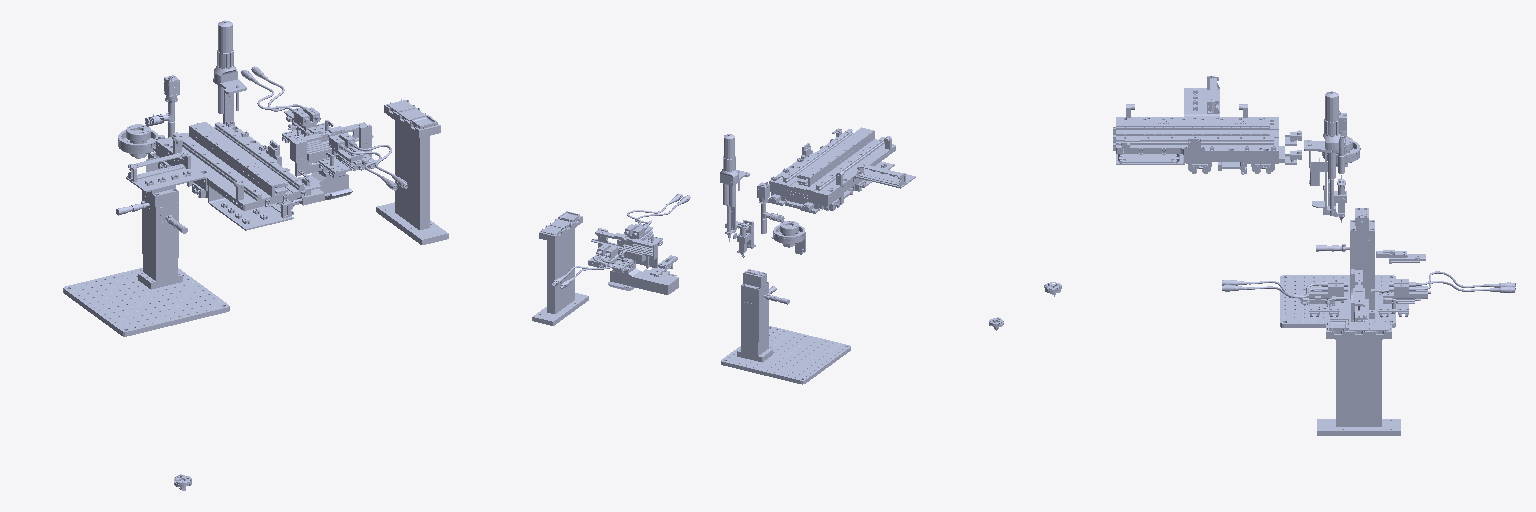
--- Facts derived from the render (not from the file) ---
Views: 3 orthographic renders of the robot side by side, from view 1: azimuth 30°, elevation 25°; view 2: azimuth 150°, elevation 25°; view 3: azimuth 270°, elevation 25°.
Model pm_robot with 29 links and 28 joints (5 revolute, 11 prismatic, 12 fixed), rooted at world, posed all joints at 0 but 1 set to mid-range because 0 is outside their limits (UV_Module_Left_Joint = 0.045).
Visible links, largest first — view 1: X_Axis, Gonio_Base_Rigth, Test_Station, EQ, Gonio_Right_Mount_Lower, UV_Module_Right, UV_Module_Left, Gonio_Left_Stage_1_Upper, Camera_Module_Z_Axis, UV_Cart_Right, Gonio_Right_Mount_Upper, Gonio_Right_Stage_1_Upper (+2 smaller); view 2: X_Axis, Gonio_Base_Rigth, Test_Station, EQ, Gonio_Left_Stage_1_Upper, Gonio_Right_Mount_Upper, UV_Module_Left, UV_Module_Right, Camera_Module_Z_Axis; view 3: X_Axis, Test_Station, Gonio_Base_Rigth, EQ, UV_Module_Left, UV_Module_Right, UV_Cart_Left, UV_Cart_Right, Nest.
Boxes of the visible links, box(x1,y1,x2,y2) form: X_Axis: box(126, 121, 310, 230); Gonio_Base_Rigth: box(63, 215, 229, 336); Test_Station: box(376, 99, 448, 244); EQ: box(213, 20, 246, 123); Gonio_Right_Mount_Lower: box(290, 124, 371, 177); UV_Module_Right: box(329, 133, 407, 190); UV_Module_Left: box(241, 66, 320, 130); Gonio_Left_Stage_1_Upper: box(277, 172, 352, 205); Camera_Module_Z_Axis: box(145, 75, 179, 137); UV_Cart_Right: box(319, 151, 375, 177); Gonio_Right_Mount_Upper: box(293, 122, 373, 153); Gonio_Right_Stage_1_Upper: box(116, 196, 178, 218); X_Axis: box(768, 127, 915, 213); Gonio_Base_Rigth: box(721, 304, 850, 384); Test_Station: box(532, 211, 588, 325); EQ: box(720, 134, 749, 241); Gonio_Left_Stage_1_Upper: box(608, 268, 678, 294); Gonio_Right_Mount_Upper: box(591, 230, 654, 268); UV_Module_Left: box(552, 244, 617, 288); UV_Module_Right: box(624, 194, 690, 239); Camera_Module_Z_Axis: box(757, 182, 784, 233); X_Axis: box(1113, 76, 1301, 174); Test_Station: box(1317, 320, 1400, 435); Gonio_Base_Rigth: box(1280, 257, 1395, 327); EQ: box(1304, 91, 1340, 215); UV_Module_Left: box(1389, 271, 1515, 300); UV_Module_Right: box(1222, 279, 1347, 302); UV_Cart_Left: box(1371, 288, 1430, 316); UV_Cart_Right: box(1288, 293, 1346, 316); Nest: box(1350, 208, 1374, 235).
Bounding box of the posed robot: 1.16 × 1.22 × 0.8362 m (x, y, z).
Meshes: 28 distinct files referenced, 24 mesh visuals loaded (24 binary STL); not drawn: 4 (reference not matched to a file when rendering).

The robot description file, URDF, robot "pm_robot":
<?xml version="1.0" encoding="utf-8"?>
<!-- This URDF was automatically created by SolidWorks to URDF Exporter! Originally created by Stephen Brawner ([email redacted]) 
     Commit Version: 1.6.0-1-g15f4949  Build Version: 1.6.7594.29634
     For more information, please see http://wiki.ros.org/sw_urdf_exporter -->
<robot
  name="pm_robot">

  <link name="world">
  </link>
  
  <joint name="world_joint" type="fixed">
    <parent link="world"/>
    <child link="base_link"/>
    <origin
      xyz="0 0 0"
      rpy="0 0 0" />
  </joint>

<gazebo reference="Nest">
    <material>Gazebo/Black</material>
</gazebo>

<gazebo reference="Component">
    <material>Gazebo/White</material>
</gazebo>

  <link
    name="base_link">
    <inertial>
      <origin
        xyz="0.625821801363778 0.570133136306886 0.131114542394431"
        rpy="0 0 0" />
      <mass
        value="185.737269065976" />
      <inertia
        ixx="17.6891686329467"
        ixy="-0.0005539539064769"
        ixz="2.11795920498451E-05"
        iyy="19.5856182457273"
        iyz="0.00180194516552895"
        izz="36.6182068946149" />
    </inertial>
    <visual>
      <origin
        xyz="0 0 0"
        rpy="0 0 0" />
      <geometry>
        <mesh
          filename="package://pm_robot_description/meshes/base_link.STL" />
      </geometry>
      <material
        name="">
        <color
          rgba="0.792156862745098 0.819607843137255 0.933333333333333 1" />
      </material>
    </visual>
    <collision>
      <origin
        xyz="0 0 0"
        rpy="0 0 0" />
      <geometry>
        <mesh
          filename="package://pm_robot_description/meshes/base_link.STL" />
      </geometry>
    </collision>
  </link>
  <link
    name="X_Axis">
    <inertial>
      <origin
        xyz="0.16919895741484 -0.139025494621401 0.0270399805740182"
        rpy="0 0 0" />
      <mass
        value="3.40836170630821" />
      <inertia
        ixx="0.0248404376541355"
        ixy="-0.000748520694827292"
        ixz="6.13257340524014E-06"
        iyy="0.0088330828502041"
        iyz="-2.4288100595453E-05"
        izz="0.0333342630400324" />
    </inertial>
    <visual>
      <origin
        xyz="0 0 0"
        rpy="0 0 0" />
      <geometry>
        <mesh
          filename="package://pm_robot_description/meshes/X_Axis.STL" />
      </geometry>
      <material
        name="">
        <color
          rgba="0.792156862745098 0.819607843137255 0.933333333333333 1" />
      </material>
    </visual>
    <collision>
      <origin
        xyz="0 0 0"
        rpy="0 0 0" />
      <geometry>
        <mesh
          filename="package://pm_robot_description/meshes/X_Axis.STL" />
      </geometry>
    </collision>
  </link>
  <joint
    name="X_Axis_Joint"
    type="prismatic">
    <origin
      xyz="0.19 0.5545 0.56"
      rpy="0 0 0" />
    <parent
      link="base_link" />
    <child
      link="X_Axis" />
    <axis
      xyz="-1 0 0" />
    <limit
      lower="-0.745"
      upper="0.055"
      effort="100"
      velocity="0.05" />
  </joint>
  <link
    name="Y_Axis">
    <inertial>
      <origin
        xyz="0.0644731605204091 0.335953761487189 0.0959734258135516"
        rpy="0 0 0" />
      <mass
        value="5.14878388645621" />
      <inertia
        ixx="0.0689971056038874"
        ixy="-5.48415730832886E-06"
        ixz="0.000161589759460467"
        iyy="0.0347519976611458"
        iyz="-0.00648361648669565"
        izz="0.0562521130143104" />
    </inertial>
    <visual>
      <origin
        xyz="0 0 0"
        rpy="0 0 0" />
      <geometry>
        <mesh
          filename="package://pm_robot_description/meshes/Y_Axis.STL" />
      </geometry>
      <material
        name="">
        <color
          rgba="0.792156862745098 0.819607843137255 0.933333333333333 1" />
      </material>
    </visual>
    <collision>
      <origin
        xyz="0 0 0"
        rpy="0 0 0" />
      <geometry>
        <mesh
          filename="package://pm_robot_description/meshes/Y_Axis.STL" />
      </geometry>
    </collision>
  </link>
  <joint
    name="Y_Axis_Joint"
    type="prismatic">
    <origin
      xyz="0.1115 -0.39197 0.0625"
      rpy="0 0 0" />
    <parent
      link="X_Axis" />
    <child
      link="Y_Axis" />
    <axis
      xyz="0 -1 0" />
    <limit
      lower="-0.425"
      upper="0.2505"
      effort="100"
      velocity="0.05" />
  </joint>
  <link
    name="Z_Axis">
    <inertial>
      <origin
        xyz="0.0549049098594834 0.0430017751887579 -0.271974089543362"
        rpy="0 0 0" />
      <mass
        value="2.90435657697672" />
      <inertia
        ixx="0.0172042502712429"
        ixy="-1.43162614116986E-05"
        ixz="0.000234498173213759"
        iyy="0.0221198084238349"
        iyz="9.06231760054573E-05"
        izz="0.00612331848936254" />
    </inertial>
    <visual>
      <origin
        xyz="0 0 0"
        rpy="0 0 0" />
      <geometry>
        <mesh
          filename="package://pm_robot_description/meshes/Z_Axis.STL" />
      </geometry>
      <material
        name="">
        <color
          rgba="0.792156862745098 0.819607843137255 0.933333333333333 1" />
      </material>
    </visual>
    <collision>
      <origin
        xyz="0 0 0"
        rpy="0 0 0" />
      <geometry>
        <mesh
          filename="package://pm_robot_description/meshes/Z_Axis.STL" />
      </geometry>
    </collision>
  </link>
  <!---Gravity off-->
  <gazebo reference="Z_Axis">
    <turnGravityOff>true</turnGravityOff>
  </gazebo>
  <joint
    name="Z_Axis_Joint"
    type="prismatic">
    <origin
      xyz="-0.000999999553101816 0.496199999543101 0.2825180193463"
      rpy="0 0 0" />
    <parent
      link="Y_Axis" />
    <child
      link="Z_Axis" />
    <axis
      xyz="0 0 -1" />
    <limit
      lower="-0.05262"
      upper="0.055"
      effort="100"
      velocity="0.05" />
  </joint>
  <link
    name="Gripper_Rot_Plate">
    <inertial>
      <origin
        xyz="2.0103346298761E-07 1.7706926014327E-07 -0.0164220765723002"
        rpy="0 0 0" />
      <mass
        value="0.11029725831735" />
      <inertia
        ixx="8.79764941917058E-05"
        ixy="-1.83626185977477E-10"
        ixz="-1.48320232213546E-10"
        iyy="8.79759415900838E-05"
        iyz="-1.27560286892208E-10"
        izz="0.000165659871028387" />
    </inertial>
    <visual>
      <origin
        xyz="0 0 0"
        rpy="0 0 0" />
      <geometry>
        <mesh
          filename="package://pm_robot_description/meshes/Gripper_Rot_Plate.STL" />
      </geometry>
      <material
        name="">
        <color
          rgba="0.792156862745098 0.819607843137255 0.933333333333333 1" />
      </material>
    </visual>
    <collision>
      <origin
        xyz="0 0 0"
        rpy="0 0 0" />
      <geometry>
        <mesh
          filename="package://pm_robot_description/meshes/Gripper_Rot_Plate.STL" />
      </geometry>
    </collision>
  </link>
  <!---Gravity off-->
  <gazebo reference="Gripper_Rot_Plate">
    <turnGravityOff>true</turnGravityOff>
  </gazebo>
  <joint
    name="Gripper_Rot_Plate_Joint"
    type="revolute">
    <origin
      xyz="0.00750000000002338 0.0900000062570287 -0.389499999999991"
      rpy="0 0 0" />
    <parent
      link="Z_Axis" />
    <child
      link="Gripper_Rot_Plate" />
    <axis
      xyz="0 0 1" />
    <limit
      lower="0"
      upper="628319"
      effort="100"
      velocity="0.05" />
  </joint>
  <link
    name="Gripper">
    <inertial>
      <origin
        xyz="0.000135108807628681 -1.05111383998813E-05 -0.0292448632131201"
        rpy="0 0 0" />
      <mass
        value="0.127647896986229" />
      <inertia
        ixx="2.5142711578718E-05"
        ixy="-1.59474432850153E-08"
        ixz="3.3525019883474E-09"
        iyy="2.54173373628528E-05"
        iyz="4.55516572819561E-10"
        izz="4.13581383274998E-05" />
    </inertial>
    <visual>
      <origin
        xyz="0 0 0"
        rpy="0 0 0" />
      <geometry>
        <mesh
          filename="package://pm_robot_description/meshes/Gripper.STL" />
      </geometry>
      <material
        name="">
        <color
          rgba="0.792156862745098 0.819607843137255 0.933333333333333 1" />
      </material>
    </visual>
    <collision>
      <origin
        xyz="0 0 0"
        rpy="0 0 0" />
      <geometry>
        <mesh
          filename="package://pm_robot_description/meshes/Gripper.STL" />
      </geometry>
    </collision>
  </link>
  <!---Gravity off-->
  <gazebo reference="Gripper">
    <turnGravityOff>true</turnGravityOff>
  </gazebo>
  <joint
    name="Gripper_Joint"
    type="fixed">
    <origin
      xyz="0 0 -0.0255000000000101"
      rpy="0 0 0" />
    <parent
      link="Gripper_Rot_Plate" />
    <child
      link="Gripper" />
    <axis
      xyz="0 0 0" />
  </joint>
  <link
    name="Glue_Cartridge_Flap">
    <inertial>
      <origin
        xyz="0.0700781843320127 0.0170691077164346 -0.0129807443134584"
        rpy="0 0 0" />
      <mass
        value="0.0179277924431146" />
      <inertia
        ixx="4.17419773394052E-06"
        ixy="1.29835566651964E-07"
        ixz="-6.29537316660378E-08"
        iyy="5.0332526265048E-06"
        iyz="-9.02306176061445E-09"
        izz="4.11888432036329E-06" />
    </inertial>
    <visual>
      <origin
        xyz="0 0 0"
        rpy="0 0 0" />
      <geometry>
        <mesh
          filename="package://pm_robot_description/meshes/Glue_Cartridge_Flap.STL" />
      </geometry>
      <material
        name="">
        <color
          rgba="0.792156862745098 0.819607843137255 0.933333333333333 1" />
      </material>
    </visual>
    <collision>
      <origin
        xyz="0 0 0"
        rpy="0 0 0" />
      <geometry>
        <mesh
          filename="package://pm_robot_description/meshes/Glue_Cartridge_Flap.STL" />
      </geometry>
    </collision>
  </link>
  <!---Gravity off-->
  <gazebo reference="Glue_Cartridge_Flap">
    <turnGravityOff>true</turnGravityOff>
  </gazebo>
  <joint
    name="Glue_Cartridge_Flap_Joint"
    type="prismatic">
    <origin
      xyz="0.0750000000000233 0.0545000062570286 -0.412499999999991"
      rpy="0 0 0" />
    <parent
      link="Z_Axis" />
    <child
      link="Glue_Cartridge_Flap" />
    <axis
      xyz="-1 0 0" />
    <limit
      lower="0"
      upper="0.02"
      effort="100"
      velocity="0.05" />
  </joint>
  <link
    name="Glue_Cartridge">
    <inertial>
      <origin
        xyz="0.00252184437967673 0.0162311247825426 -0.0902228052383323"
        rpy="0 0 0" />
      <mass
        value="0.0725671789065893" />
      <inertia
        ixx="3.42933852013293E-05"
        ixy="-1.91967791577504E-07"
        ixz="5.62664387056898E-08"
        iyy="3.4047535660396E-05"
        iyz="-5.6636413986979E-07"
        izz="1.14639175061085E-05" />
    </inertial>
    <visual>
      <origin
        xyz="0 0 0"
        rpy="0 0 0" />
      <geometry>
        <mesh
          filename="package://pm_robot_description/meshes/Glue_Cartridge.STL" />
      </geometry>
      <material
        name="">
        <color
          rgba="0.792156862745098 0.819607843137255 0.933333333333333 1" />
      </material>
    </visual>
    <collision>
      <origin
        xyz="0 0 0"
        rpy="0 0 0" />
      <geometry>
        <mesh
          filename="package://pm_robot_description/meshes/Glue_Cartridge.STL" />
      </geometry>
    </collision>
  </link>
  <!---Gravity off-->
  <gazebo reference="Glue_Cartridge">
    <turnGravityOff>true</turnGravityOff>
  </gazebo>
  <joint
    name="Glue_Cartridge_Joint"
    type="prismatic">
    <origin
      xyz="0.171500000000024 0.0582000062570286 -0.341999999999991"
      rpy="0 0 0" />
    <parent
      link="Z_Axis" />
    <child
      link="Glue_Cartridge" />
    <axis
      xyz="0 0 1" />
    <limit
      lower="0"
      upper="0.04"
      effort="100"
      velocity="0.05" />
  </joint>
  <link
    name="EQ">
    <inertial>
      <origin
        xyz="-0.000295411016381641 0.0248543962427798 0.0574291260378159"
        rpy="0 0 0" />
      <mass
        value="0.398291319329287" />
      <inertia
        ixx="0.00156701563987073"
        ixy="-4.41604324049231E-06"
        ixz="9.92168040657486E-08"
        iyy="0.00155258685914303"
        iyz="1.49787524994666E-06"
        izz="0.000122318061840883" />
    </inertial>
    <visual>
      <origin
        xyz="0 0 0"
        rpy="0 0 0" />
      <geometry>
        <mesh
          filename="package://pm_robot_description/meshes/EQ.STL" />
      </geometry>
      <material
        name="">
        <color
          rgba="0.792156862745098 0.819607843137255 0.933333333333333 1" />
      </material>
    </visual>
    <collision>
      <origin
        xyz="0 0 0"
        rpy="0 0 0" />
      <geometry>
        <mesh
          filename="package://pm_robot_description/meshes/EQ.STL" />
      </geometry>
    </collision>
  </link>
  <!---Gravity off-->
  <gazebo reference="EQ">
    <turnGravityOff>true</turnGravityOff>
  </gazebo>
  <joint
    name="EQ_Joint"
    type="prismatic">
    <origin
      xyz="0.236500000000024 0.0322575758254202 -0.310499999999992"
      rpy="0 0 0" />
    <parent
      link="Z_Axis" />
    <child
      link="EQ" />
    <axis
      xyz="0 0 1" />
    <limit
      lower="0"
      upper="0.02"
      effort="100"
      velocity="0.05" />
  </joint>
  <link
    name="Camera_Module_Z_Axis">
    <inertial>
      <origin
        xyz="0.0116313616057115 0.0214231207637281 -0.0632876276111702"
        rpy="0 0 0" />
      <mass
        value="0.0744906107551854" />
      <inertia
        ixx="3.47731720414153E-05"
        ixy="6.43752140750256E-10"
        ixz="3.28409092724849E-07"
        iyy="3.75323274030922E-05"
        iyz="1.11954348594254E-07"
        izz="9.810378338093E-06" />
    </inertial>
    <visual>
      <origin
        xyz="0 0 0"
        rpy="0 0 0" />
      <geometry>
        <mesh
          filename="package://pm_robot_description/meshes/Camera_Module_Z_Axis.STL" />
      </geometry>
      <material
        name="">
        <color
          rgba="0.792156862745098 0.819607843137255 0.933333333333333 1" />
      </material>
    </visual>
    <collision>
      <origin
        xyz="0 0 0"
        rpy="0 0 0" />
      <geometry>
        <mesh
          filename="package://pm_robot_description/meshes/Camera_Module_Z_Axis.STL" />
      </geometry>
    </collision>
  </link>
    <!---Gravity off-->
  <gazebo reference="Camera_Module_Z_Axis">
    <turnGravityOff>true</turnGravityOff>
  </gazebo>
  <joint
    name="Camera_Module_Z_Axis_Joint"
    type="fixed">
    <origin
      xyz="0.0795000000000243 0.068500020970708 -0.233999999999991"
      rpy="0 0 0" />
    <parent
      link="Z_Axis" />
    <child
      link="Camera_Module_Z_Axis" />
    <axis
      xyz="0 0 0" />
  </joint>

  <link
    name="Test_Station">
    <inertial>
      <origin
        xyz="0.0375 0.109867595364853 0.143148862667039"
        rpy="0 0 0" />
      <mass
        value="1.39099524679326" />
      <inertia
        ixx="0.00780193904512034"
        ixy="-2.61716248057058E-14"
        ixz="-3.61572424102462E-21"
        iyy="0.00547600691976027"
        iyz="-9.87499782880815E-10"
        izz="0.00281708795214925" />
    </inertial>
    <visual>
      <origin
        xyz="0 0 0"
        rpy="0 0 0" />
      <geometry>
        <mesh
          filename="package://pm_robot_description/meshes/Test_Station.STL" />
      </geometry>
      <material
        name="">
        <color
          rgba="0.792156862745098 0.819607843137255 0.933333333333333 1" />
      </material>
    </visual>
    <collision>
      <origin
        xyz="0 0 0"
        rpy="0 0 0" />
      <geometry>
        <mesh
          filename="package://pm_robot_description/meshes/Test_Station.STL" />
      </geometry>
    </collision>
  </link>
  <joint
    name="Test_Station_Joint"
    type="fixed">
    <origin
      xyz="1.0625 0.6845 0.1"
      rpy="0 0 0" />
    <parent
      link="base_link" />
    <child
      link="Test_Station" />
    <axis
      xyz="0 0 0" />
  </joint>
  <link
    name="Gonio_Base_Rigth">
    <inertial>
      <origin
        xyz="-0.443310661236087 0.0330000000000467 -0.10131041089702"
        rpy="0 0 0" />
      <mass
        value="0.735149712395274" />
      <inertia
        ixx="0.00216091772202082"
        ixy="1.66756120275789E-18"
        ixz="2.02637515337738E-06"
        iyy="0.00218184071743384"
        iyz="8.52621696064458E-20"
        izz="0.000537837036237896" />
    </inertial>
    <visual>
      <origin
        xyz="0 0 0"
        rpy="0 0 0" />
      <geometry>
        <mesh
          filename="package://pm_robot_description/meshes/Gonio_Base_Rigth.STL" />
      </geometry>
      <material
        name="">
        <color
          rgba="0.792156862745098 0.819607843137255 0.933333333333333 1" />
      </material>
    </visual>
    <collision>
      <origin
        xyz="0 0 0"
        rpy="0 0 0" />
      <geometry>
        <mesh
          filename="package://pm_robot_description/meshes/Gonio_Base_Rigth.STL" />
      </geometry>
    </collision>
  </link>
  <joint
    name="Gonio_base_Rigth_Joint"
    type="fixed">
    <origin
      xyz="0.843436798933783 0.769499999999991 0.297531903269611"
      rpy="0 0.00124847209373138 0" />
    <parent
      link="base_link" />
    <child
      link="Gonio_Base_Rigth" />
    <axis
      xyz="0 0 0" />
  </joint>
  <link
    name="Stage_1_Gonio_Right">
    <inertial>
      <origin
        xyz="0.0450000285629691 0.0154464744552945 0.180028793226625"
        rpy="0 0 0" />
      <mass
        value="0.0706349432835735" />
      <inertia
        ixx="3.36962706733939E-05"
        ixy="-7.72258833183303E-11"
        ixz="-1.91981813462905E-11"
        iyy="1.8004068123271E-05"
        iyz="-1.39266767162838E-07"
        izz="4.86217530226209E-05" />
    </inertial>
    <visual>
      <origin
        xyz="0 0 0"
        rpy="0 0 0" />
      <geometry>
        <mesh
          filename="package://pm_robot_description/meshes/Stage_1_Gonio_Right.STL" />
      </geometry>
      <material
        name="">
        <color
          rgba="0.792156862745098 0.819607843137255 0.933333333333333 1" />
      </material>
    </visual>
    <collision>
      <origin
        xyz="0 0 0"
        rpy="0 0 0" />
      <geometry>
        <mesh
          filename="package://pm_robot_description/meshes/Stage_1_Gonio_Right.STL" />
      </geometry>
    </collision>
  </link>
  <joint
    name="Stage_1_Gonio_Right_Joint"
    type="fixed">
    <origin
      xyz="-0.488205660861556 0.00050000000005054 -0.185441558777103"
      rpy="0 -0.00124847209373138 0" />
    <parent
      link="Gonio_Base_Rigth" />
    <child
      link="Stage_1_Gonio_Right" />
    <axis
      xyz="0 0 0" />
  </joint>
  <link
    name="Gonio_Right_Stage_1_Upper">
    <inertial>
      <origin
        xyz="0.0236093552066096 0.000777611453360041 -0.07883096150979"
        rpy="0 0 0" />
      <mass
        value="0.135485840705969" />
      <inertia
        ixx="4.16210427703093E-05"
        ixy="1.17487642350012E-09"
        ixz="-1.10761881698597E-07"
        iyy="6.29240886667246E-05"
        iyz="-3.38034194495186E-07"
        izz="9.71875209897851E-05" />
    </inertial>
    <visual>
      <origin
        xyz="0 0 0"
        rpy="0 0 0" />
      <geometry>
        <mesh
          filename="package://pm_robot_description/meshes/Gonio_Right_Stage_1_Upper.STL" />
      </geometry>
      <material
        name="">
        <color
          rgba="0.792156862745098 0.819607843137255 0.933333333333333 1" />
      </material>
    </visual>
    <collision>
      <origin
        xyz="0 0 0"
        rpy="0 0 0" />
      <geometry>
        <mesh
          filename="package://pm_robot_description/meshes/Gonio_Right_Stage_1_Upper.STL" />
      </geometry>
    </collision>
  </link>
  <joint
    name="Gonio_Right_Stage_1_Upper_joint"
    type="revolute">
    <origin
      xyz="0.0125000000000001 0.0325000000000001 0.281999999999999"
      rpy="0 0 0" />
    <parent
      link="Stage_1_Gonio_Right" />
    <child
      link="Gonio_Right_Stage_1_Upper" />
    <axis
      xyz="1 0 0" />
    <limit
      lower="-0.087266"
      upper="0.087266"
      effort="100"
      velocity="0.1" />
  </joint>
  <link
    name="Gonio_Right_Stage_2_Upper">
    <inertial>
      <origin
        xyz="-6.53148646279078E-10 -0.0325000008448236 -0.0578599602398864"
        rpy="0 0 0" />
      <mass
        value="0.0546397592722759" />
      <inertia
        ixx="2.38958843339078E-05"
        ixy="-1.0219765031195E-11"
        ixz="8.98389909344655E-13"
        iyy="1.83573881738552E-05"
        iyz="-3.15839883014258E-13"
        izz="3.93608769988889E-05" />
    </inertial>
    <visual>
      <origin
        xyz="0 0 0"
        rpy="0 0 0" />
      <geometry>
        <mesh
          filename="package://pm_robot_description/meshes/Gonio_Right_Stage_2_Upper.STL" />
      </geometry>
      <material
        name="">
        <color
          rgba="0.792156862745098 0.819607843137255 0.933333333333333 1" />
      </material>
    </visual>
    <collision>
      <origin
        xyz="0 0 0"
        rpy="0 0 0" />
      <geometry>
        <mesh
          filename="package://pm_robot_description/meshes/Gonio_Right_Stage_2_Upper.STL" />
      </geometry>
    </collision>
  </link>
  <joint
    name="Gonio_Right_Stage_2_Upper_Joint"
    type="revolute">
    <origin
      xyz="0.0325 0.0324984184257152 0.000320624121260105"
      rpy="0.00986554689296988 0.00243647716593582 2.40379358152113E-05" />
    <parent
      link="Gonio_Right_Stage_1_Upper" />
    <child
      link="Gonio_Right_Stage_2_Upper" />
    <axis
      xyz="0 -1 0" />
    <limit
      lower="-0.17453"
      upper="0.17453"
      effort="100"
      velocity="0.1" />
  </joint>
  <link
    name="Nest">
    <inertial>
      <origin
        xyz="0.032450872460221 0.0324929107955899 0.0216564841431486"
        rpy="0 0 0" />
      <mass
        value="0.133934804260549" />
      <inertia
        ixx="3.05433990945617E-05"
        ixy="-2.55507778379188E-10"
        ixz="-1.74866992826515E-08"
        iyy="4.8078789038224E-05"
        iyz="2.24246440407081E-09"
        izz="7.18729232272563E-05" />
    </inertial>
    <visual>
      <origin
        xyz="0 0 0"
        rpy="0 0 0" />
      <geometry>
        <mesh
          filename="package://pm_robot_description/meshes/Nest.STL" />
      </geometry>
      <material
        name="">
        <color
          rgba="0.792156862745098 0.819607843137255 0.933333333333333 1" />
      </material>
    </visual>
    <collision>
      <origin
        xyz="0 0 0"
        rpy="0 0 0" />
      <geometry>
        <mesh
          filename="package://pm_robot_description/meshes/Nest.STL" />
      </geometry>
    </collision>
  </link>
  <joint
    name="Nest_Joint"
    type="fixed">
    <origin
      xyz="-0.0324999999999999 -0.065 -0.0499999999999998"
      rpy="0 0 0" />
    <parent
      link="Gonio_Right_Stage_2_Upper" />
    <child
      link="Nest" />
    <axis
      xyz="0 0 0" />
  </joint>

  <link
    name="Component">
    <inertial>
      <origin
        xyz="0.0347500000000016 0.0327000000000096 0.0533550000000003"
        rpy="0 0 0" />
      <mass
        value="0.00104831550000006" />
      <inertia
        ixx="3.55496103757146E-08"
        ixy="1.89981381540481E-23"
        ixz="2.41620205931236E-23"
        iyy="8.15217394357171E-08"
        iyz="8.32325538551038E-24"
        izz="1.16560453252507E-07" />
    </inertial>
    <visual>
      <origin
        xyz="0 0 0"
        rpy="0 0 0" />
      <geometry>
        <mesh
          filename="package://robot_image_recognition/meshes/Component.STL" />
      </geometry>
      <material
        name="">
        <color
          rgba="0.792156862745098 0.819607843137255 0.933333333333333 2" />
      </material>
    </visual>
    <collision>
      <origin
        xyz="0 0 0"
        rpy="0 0 0" />
      <geometry>
        <mesh
          filename="package://robot_image_recognition/meshes/Component.STL" />
      </geometry>
    </collision>
  </link>
  <joint
    name="Component_Joint"
    type="fixed">
    <origin
      xyz="0 0 0"
      rpy="0 0 0" />
    <parent
      link="Nest" />
    <child
      link="Component" />
    <axis
      xyz="0 0 0" />
  </joint>

  <link
    name="Camera_System">
    <inertial>
      <origin
        xyz="0.0505028321627497 0.194735930802516 0.146786757354195"
        rpy="0 0 0" />
      <mass
        value="2.8858378823955" />
      <inertia
        ixx="0.0184869737843273"
        ixy="1.26297079346321E-05"
        ixz="3.42211569734802E-06"
        iyy="0.0045547035395917"
        iyz="-9.47292848293822E-05"
        izz="0.0194720270517019" />
    </inertial>
    <visual>
      <origin
        xyz="0 0 0"
        rpy="0 0 0" />
      <geometry>
        <mesh
          filename="package://pm_robot_description/meshes/Camera_System.STL" />
      </geometry>
      <material
        name="">
        <color
          rgba="0.792156862745098 0.819607843137255 0.933333333333333 1" />
      </material>
    </visual>
    <collision>
      <origin
        xyz="0 0 0"
        rpy="0 0 0" />
      <geometry>
        <mesh
          filename="package://pm_robot_description/meshes/Camera_System.STL" />
      </geometry>
    </collision>
  </link>
  <joint
    name="Camera_System_Joint"
    type="fixed">
    <origin
      xyz="0.6025 0.5075 0.1"
      rpy="0 0 0" />
    <parent
      link="base_link" />
    <child
      link="Camera_System" />
    <axis
      xyz="0 0 0" />
  </joint>
  <link
    name="Camera_Calibration">
    <inertial>
      <origin
        xyz="-2.23806848806962E-05 -0.0716494371536874 0.0040939089037404"
        rpy="0 0 0" />
      <mass
        value="0.0326858647412389" />
      <inertia
        ixx="2.04982158767326E-05"
        ixy="-1.61006130053567E-08"
        ixz="3.66083708051192E-11"
        iyy="2.64269352598525E-06"
        iyz="-4.64472618194221E-07"
        izz="2.23690961977999E-05" />
    </inertial>
    <visual>
      <origin
        xyz="0 0 0"
        rpy="0 0 0" />
      <geometry>
        <mesh
          filename="package://pm_robot_description/meshes/Camera_Calibration.STL" />
      </geometry>
      <material
        name="">
        <color
          rgba="0.792156862745098 0.819607843137255 0.933333333333333 1" />
      </material>
    </visual>
    <collision>
      <origin
        xyz="0 0 0"
        rpy="0 0 0" />
      <geometry>
        <mesh
          filename="package://pm_robot_description/meshes/Camera_Calibration.STL" />
      </geometry>
    </collision>
  </link>
  <joint
    name="Camera_Calibartion_Joint"
    type="prismatic">
    <origin
      xyz="0.065 0.4615 0.293"
      rpy="0 0 0" />
    <parent
      link="Camera_System" />
    <child
      link="Camera_Calibration" />
    <axis
      xyz="0 1 0" />
    <limit
      lower="-0.04"
      upper="0.0"
      effort="100"
      velocity="0.05" />
  </joint>
  <link
    name="Gonio_Base_Left">
    <inertial>
      <origin
        xyz="0.126941450046363 0.123518998015631 0.100678856473502"
        rpy="0 0 0" />
      <mass
        value="4.82459847582554" />
      <inertia
        ixx="0.011510655159352"
        ixy="-3.33565784736191E-05"
        ixz="1.45496624991337E-06"
        iyy="0.0188665286335149"
        iyz="2.60234058906314E-05"
        izz="0.0269849279870219" />
    </inertial>
    <visual>
      <origin
        xyz="0 0 0"
        rpy="0 0 0" />
      <geometry>
        <mesh
          filename="package://pm_robot_description/meshes/Gonio_Base_Left.STL" />
      </geometry>
      <material
        name="">
        <color
          rgba="0.792156862745098 0.819607843137255 0.933333333333333 1" />
      </material>
    </visual>
    <collision>
      <origin
        xyz="0 0 0"
        rpy="0 0 0" />
      <geometry>
        <mesh
          filename="package://pm_robot_description/meshes/Gonio_Base_Left.STL" />
      </geometry>
    </collision>
  </link>
  <joint
    name="Gonio_Base_Left_Joint"
    type="fixed">
    <origin
      xyz="0.752500000000035 0.684500000000037 0.100000000000003"
      rpy="0 0 0" />
    <parent
      link="base_link" />
    <child
      link="Gonio_Base_Left" />
    <axis
      xyz="0 0 0" />
  </joint>
  <link
    name="Gonio_Left_Stage_1_Upper">
    <inertial>
      <origin
        xyz="-0.0997824878967629 -0.00877925652714914 -0.0446785627316291"
        rpy="0 0 0" />
      <mass
        value="0.578798857286943" />
      <inertia
        ixx="0.000400478324367352"
        ixy="-0.000129239522587823"
        ixz="-7.82346515363914E-07"
        iyy="0.00157904583991977"
        iyz="5.25968237719547E-06"
        izz="0.00188005175520343" />
    </inertial>
    <visual>
      <origin
        xyz="0 0 0"
        rpy="0 0 0" />
      <geometry>
        <mesh
          filename="package://pm_robot_description/meshes/Gonio_Left_Stage_1_Upper.STL" />
      </geometry>
      <material
        name="">
        <color
          rgba="0.792156862745098 0.819607843137255 0.933333333333333 1" />
      </material>
    </visual>
    <collision>
      <origin
        xyz="0 0 0"
        rpy="0 0 0" />
      <geometry>
        <mesh
          filename="package://pm_robot_description/meshes/Gonio_Left_Stage_1_Upper.STL" />
      </geometry>
    </collision>
  </link>
  <joint
    name="Gonio_Left_Stage_1_Upper_Joint"
    type="revolute">
    <origin
      xyz="0.156499999999957 0.109999999999947 0.212499999999997"
      rpy="0 0 0" />
    <parent
      link="Gonio_Base_Left" />
    <child
      link="Gonio_Left_Stage_1_Upper" />
    <axis
      xyz="1 0 0" />
    <limit
      lower="-0.78539816339745"
      upper="0.78539816339745"
      effort="100"
      velocity="0.1" />
  </joint>
  <link
    name="Gonio_Left_Stage_2_Upper">
    <inertial>
      <origin
        xyz="-2.64677118601286E-05 -0.0250000000001234 -0.0212004406894863"
        rpy="0 0 0" />
      <mass
        value="0.0270626702476323" />
      <inertia
        ixx="6.08759497527378E-06"
        ixy="4.08430684508571E-14"
        ixz="4.39226594546324E-09"
        iyy="4.36785275766636E-06"
        iyz="-1.45383292013094E-16"
        izz="9.60639482996178E-06" />
    </inertial>
    <visual>
      <origin
        xyz="0 0 0"
        rpy="0 0 0" />
      <geometry>
        <mesh
          filename="package://pm_robot_description/meshes/Gonio_Left_Stage_2_Upper.STL" />
      </geometry>
      <material
        name="">
        <color
          rgba="0.792156862745098 0.819607843137255 0.933333333333333 1" />
      </material>
    </visual>
    <collision>
      <origin
        xyz="0 0 0"
        rpy="0 0 0" />
      <geometry>
        <mesh
          filename="package://pm_robot_description/meshes/Gonio_Left_Stage_2_Upper.STL" />
      </geometry>
    </collision>
  </link>
  <joint
    name="Gonio_Left_Stage_2_Upper_Joint"
    type="revolute">
    <origin
      xyz="-0.04 0.025 0"
      rpy="0 0 0" />
    <parent
      link="Gonio_Left_Stage_1_Upper" />
    <child
      link="Gonio_Left_Stage_2_Upper" />
    <axis
      xyz="0 -1 0" />
    <limit
      lower="-0.78539816339745"
      upper="0.78539816339745"
      effort="100"
      velocity="0.1" />
  </joint>
  <link
    name="Gonio_Right_Mount_Lower">
    <inertial>
      <origin
        xyz="0.0162416232097771 0.0179266836523483 0.0446054201820039"
        rpy="0 0 0" />
      <mass
        value="0.193859196114997" />
      <inertia
        ixx="6.6965131704231E-05"
        ixy="1.79270793281868E-07"
        ixz="9.94006466314354E-07"
        iyy="0.000515179692751325"
        iyz="1.1170065098574E-06"
        izz="0.000471145863687032" />
    </inertial>
    <visual>
      <origin
        xyz="0 0 0"
        rpy="0 0 0" />
      <geometry>
        <mesh
          filename="package://pm_robot_description/meshes/Gonio_Right_Mount_Lower.STL" />
      </geometry>
      <material
        name="">
        <color
          rgba="0.792156862745098 0.819607843137255 0.933333333333333 1" />
      </material>
    </visual>
    <collision>
      <origin
        xyz="0 0 0"
        rpy="0 0 0" />
      <geometry>
        <mesh
          filename="package://pm_robot_description/meshes/Gonio_Right_Mount_Lower.STL" />
      </geometry>
    </collision>
  </link>
<joint
    name="Gonio_Right_Mount_Lower_joint"
    type="fixed">
    <origin
      xyz="-0.0255632010662045 -0.05 -0.0149680967303876"
      rpy="0 0.00124847209372143 0" />
    <parent
      link="Gonio_Left_Stage_2_Upper" />
    <child
      link="Gonio_Right_Mount_Lower" />
    <axis
      xyz="0 0 0" />
  </joint>
  <link
    name="Gonio_Right_Mount_Upper">
    <inertial>
      <origin
        xyz="0.0138876332089552 0.0253601886212102 0.0864002192139908"
        rpy="0 0 0" />
      <mass
        value="0.0762325967846099" />
      <inertia
        ixx="1.37177472529419E-05"
        ixy="-1.46120092158232E-07"
        ixz="-6.17955623619177E-07"
        iyy="0.000262744933743385"
        iyz="8.65502713401381E-08"
        izz="0.000253259614960968" />
    </inertial>
    <visual>
      <origin
        xyz="0 0 0"
        rpy="0 0 0" />
      <geometry>
        <mesh
          filename="package://pm_robot_description/meshes/Gonio_Right_Mount_Upper.STL" />
      </geometry>
      <material
        name="">
        <color
          rgba="0.792156862745098 0.819607843137255 0.933333333333333 1" />
      </material>
    </visual>
    <collision>
      <origin
        xyz="0 0 0"
        rpy="0 0 0" />
      <geometry>
        <mesh
          filename="package://pm_robot_description/meshes/Gonio_Right_Mount_Upper.STL" />
      </geometry>
    </collision>
  </link>
  <joint
    name="Gonio_Right_Mount_Upper_Joint"
    type="fixed">
    <origin
      xyz="0.000544493897539577 0 0"
      rpy="0 -0.00124847209372143 0" />
    <parent
      link="Gonio_Right_Mount_Lower" />
    <child
      link="Gonio_Right_Mount_Upper" />
    <axis
      xyz="0 0 0" />
  </joint>
  <link
    name="UV_Cart_Left">
    <inertial>
      <origin
        xyz="0.109018366442935 -0.0253104400388921 0.0106949485904486"
        rpy="0 0 0" />
      <mass
        value="0.127959263611525" />
      <inertia
        ixx="5.21591452075977E-05"
        ixy="6.20383441116901E-08"
        ixz="-1.12100819961438E-07"
        iyy="6.05583187276661E-05"
        iyz="5.20562066916109E-08"
        izz="0.0001087127585747" />
    </inertial>
    <visual>
      <origin
        xyz="0 0 0"
        rpy="0 0 0" />
      <geometry>
        <mesh
          filename="package://pm_robot_description/meshes/UV_Cart_Left.STL" />
      </geometry>
      <material
        name="">
        <color
          rgba="0.792156862745098 0.819607843137255 0.933333333333333 1" />
      </material>
    </visual>
    <collision>
      <origin
        xyz="0 0 0"
        rpy="0 0 0" />
      <geometry>
        <mesh
          filename="package://pm_robot_description/meshes/UV_Cart_Left.STL" />
      </geometry>
    </collision>
  </link>
  <joint
    name="UV_Cart_Left_Joint"
    type="prismatic">
    <origin
      xyz="0.00649999999276624 0.231179999755626 0.252599999998818"
      rpy="0 0 0" />
    <parent
      link="Gonio_Base_Left" />
    <child
      link="UV_Cart_Left" />
    <axis
      xyz="-1 0 0" />
    <limit
      lower="-0.05"
      upper="0.095"
      effort="100"
      velocity="0.05" />
  </joint>
  <link
    name="UV_Module_Left">
    <inertial>
      <origin
        xyz="-0.00149625704690598 -0.0153546654161227 0.0150907885908851"
        rpy="0 0 0" />
      <mass
        value="0.119915229322348" />
      <inertia
        ixx="8.58688560134339E-05"
        ixy="-9.33412693374149E-06"
        ixz="-2.12947224034943E-07"
        iyy="1.98652847972192E-05"
        iyz="-9.66953808948319E-07"
        izz="0.000101234986556129" />
    </inertial>
    <visual>
      <origin
        xyz="0 0 0"
        rpy="0 0 0" />
      <geometry>
        <mesh
          filename="package://pm_robot_description/meshes/UV_Module_Left.STL" />
      </geometry>
      <material
        name="">
        <color
          rgba="0.792156862745098 0.819607843137255 0.933333333333333 1" />
      </material>
    </visual>
    <collision>
      <origin
        xyz="0 0 0"
        rpy="0 0 0" />
      <geometry>
        <mesh
          filename="package://pm_robot_description/meshes/UV_Module_Left.STL" />
      </geometry>
    </collision>
  </link>
  <joint
    name="UV_Module_Left_Joint"
    type="prismatic">
    <origin
      xyz="0.109999999999999 0.0238200000000034 0.0276000000000078"
      rpy="0 0 0" />
    <parent
      link="UV_Cart_Left" />
    <child
      link="UV_Module_Left" />
    <axis
      xyz="0 1 0" />
    <limit
      lower="0.045"
      upper="0.045"
      effort="100"
      velocity="0.05" />
  </joint>
  <link
    name="UV_Cart_Right">
    <inertial>
      <origin
        xyz="0.110981633503817 -0.0370495599640397 0.0106949485927099"
        rpy="0 0 0" />
      <mass
        value="0.127959263593804" />
      <inertia
        ixx="5.21591452058585E-05"
        ixy="6.20383442649097E-08"
        ixz="1.12100820140438E-07"
        iyy="6.05583187268144E-05"
        iyz="-5.20562063181683E-08"
        izz="0.000108712758573194" />
    </inertial>
    <visual>
      <origin
        xyz="0 0 0"
        rpy="0 0 0" />
      <geometry>
        <mesh
          filename="package://pm_robot_description/meshes/UV_Cart_Right.STL" />
      </geometry>
      <material
        name="">
        <color
          rgba="0.792156862745098 0.819607843137255 0.933333333333333 1" />
      </material>
    </visual>
    <collision>
      <origin
        xyz="0 0 0"
        rpy="0 0 0" />
      <geometry>
        <mesh
          filename="package://pm_robot_description/meshes/UV_Cart_Right.STL" />
      </geometry>
    </collision>
  </link>
  <joint
    name="UV_Cart_Right_Joint"
    type="prismatic">
    <origin
      xyz="0.00649999999276935 0.0511799999883173 0.252599999998818"
      rpy="0 0 0" />
    <parent
      link="Gonio_Base_Left" />
    <child
      link="UV_Cart_Right" />
    <axis
      xyz="1 0 0" />
    <limit
      lower="-0.045"
      upper="0.045"
      effort="0.05"
      velocity="100" />
  </joint>
  <link
    name="UV_Module_Right">
    <inertial>
      <origin
        xyz="0.00149625704165013 0.0198723785842292 0.0150907885908851"
        rpy="0 0 0" />
      <mass
        value="0.119915229322348" />
      <inertia
        ixx="8.58688560134346E-05"
        ixy="-9.33412693374251E-06"
        ixz="2.12947224034883E-07"
        iyy="1.98652847972198E-05"
        iyz="9.66953808948422E-07"
        izz="0.00010123498655613" />cls
    </inertial>
    <visual>
      <origin
        xyz="0 0 0"
        rpy="0 0 0" />
      <geometry>
        <mesh
          filename="package://pm_robot_description/meshes/UV_Module_Right.STL" />
      </geometry>
      <material
        name="">
        <color
          rgba="0.792156862745098 0.819607843137255 0.933333333333333 1" />
      </material>
    </visual>
    <collision>
      <origin
        xyz="0 0 0"
        rpy="0 0 0" />
      <geometry>
        <mesh
          filename="package://pm_robot_description/meshes/UV_Module_Right.STL" />
      </geometry>
    </collision>
  </link>
  <joint
    name="UV_Module_Right_Joint"
    type="prismatic">
    <origin
      xyz="0.109999999941829 -0.0861800000000014 0.0276000000000078"
      rpy="0 0 0" />
    <parent
      link="UV_Cart_Right" />
    <child
      link="UV_Module_Right" />
    <axis
      xyz="0 -1 0" />
    <limit
      lower="0"
      upper="0.05"
      effort="100"
      velocity="0.05" />
  </joint>
</robot>
